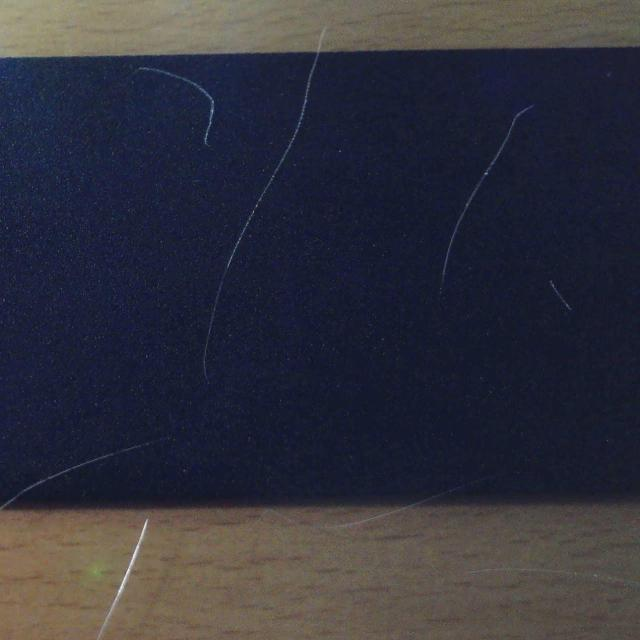defect: (201, 44, 321, 384), (438, 104, 534, 296), (0, 435, 176, 509), (129, 63, 221, 155), (428, 468, 506, 499), (544, 276, 577, 319)
